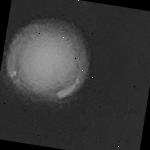colony: (0, 3, 102, 111)
